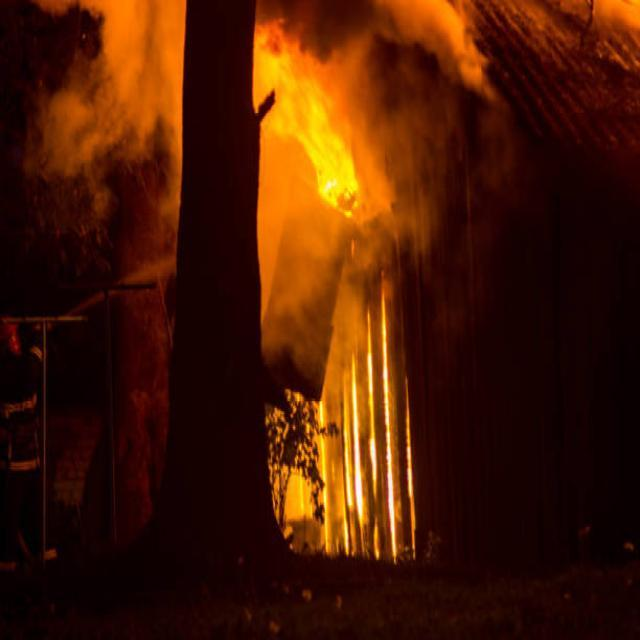Fire: (260, 21, 366, 224)
Smoke: (358, 0, 518, 275), (56, 0, 186, 217)
